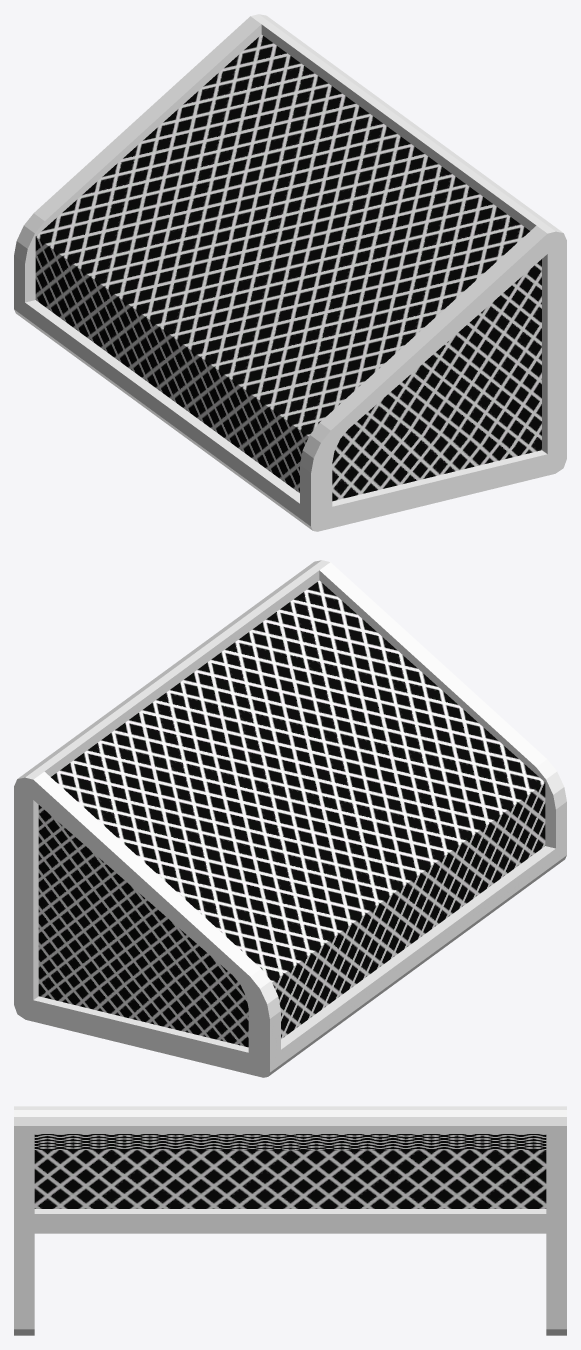
File: soccer_goal_v01.obj
The picture shows the model from 3 angles, top to bottom: view 1: azimuth 30°, elevation 25°; view 2: azimuth 150°, elevation 25°; view 3: azimuth 270°, elevation 25°; orthographic projection. The views are drawn at different scales.
Visible parts, largest first — view 1: soccer_goal_v01_m_SoccerNetting, soccer_goal_v01_Mat_PolygonTown_01_A_Inst; view 2: soccer_goal_v01_m_SoccerNetting, soccer_goal_v01_Mat_PolygonTown_01_A_Inst; view 3: soccer_goal_v01_m_SoccerNetting, soccer_goal_v01_Mat_PolygonTown_01_A_Inst.
Boxes of the visible parts, left/top/right/bottom form: soccer_goal_v01_m_SoccerNetting: left=35, top=34, right=541, bottom=501; soccer_goal_v01_Mat_PolygonTown_01_A_Inst: left=14, top=14, right=566, bottom=531; soccer_goal_v01_m_SoccerNetting: left=38, top=580, right=545, bottom=1047; soccer_goal_v01_Mat_PolygonTown_01_A_Inst: left=14, top=560, right=566, bottom=1077; soccer_goal_v01_m_SoccerNetting: left=34, top=1134, right=546, bottom=1208; soccer_goal_v01_Mat_PolygonTown_01_A_Inst: left=14, top=1106, right=566, bottom=1335.
Bounding box in the file's own units: 0.158 × 0.1428 × 0.3177.
Materials: 2 (1 with a texture image).
